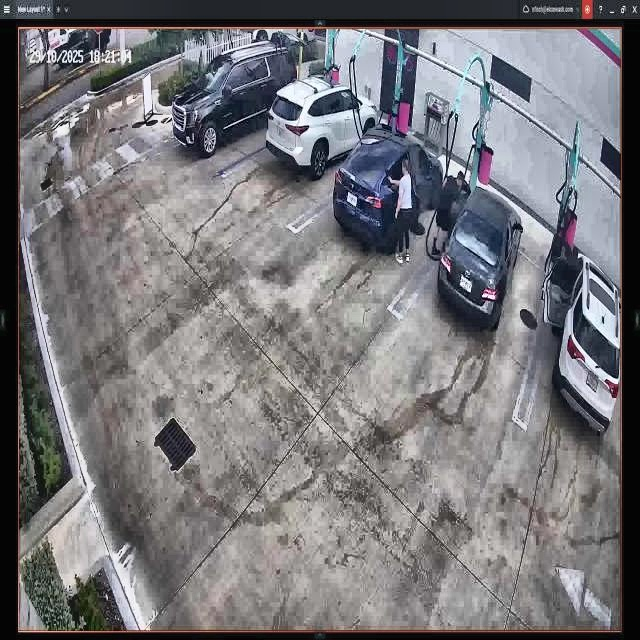Car: (333, 130, 443, 248), (437, 184, 523, 328), (268, 74, 380, 174)
